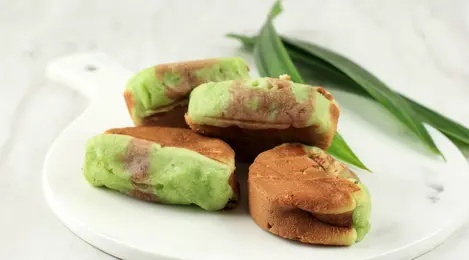pukis: (50, 112, 243, 213)
